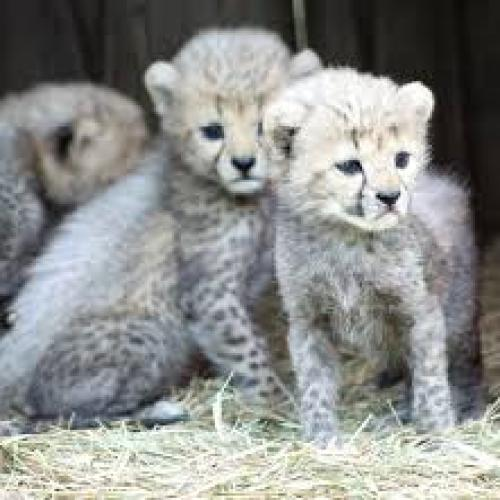cheetah-endangered: (29, 28, 313, 416), (270, 72, 482, 428), (3, 73, 149, 305)
